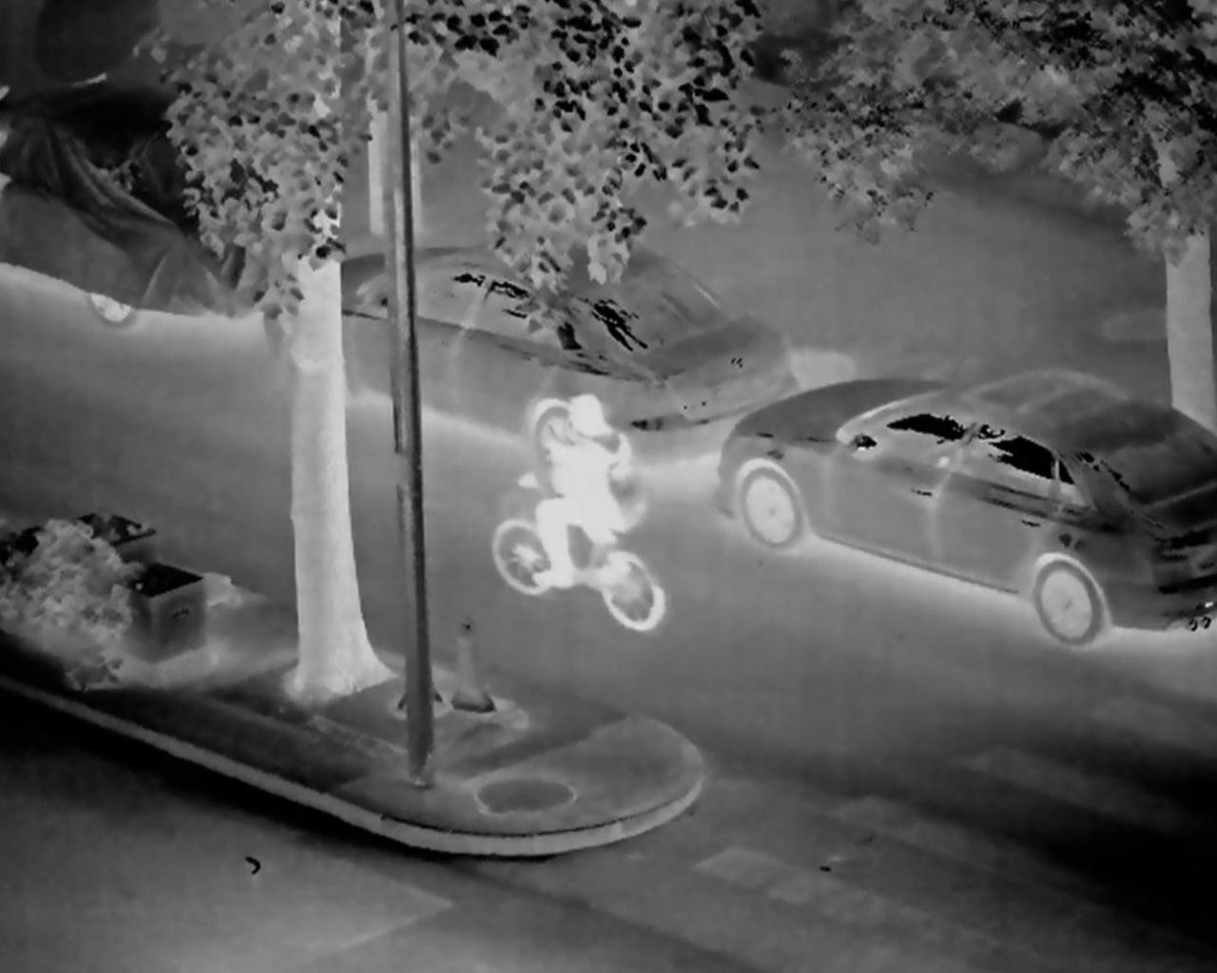person: (509, 388, 635, 596)
